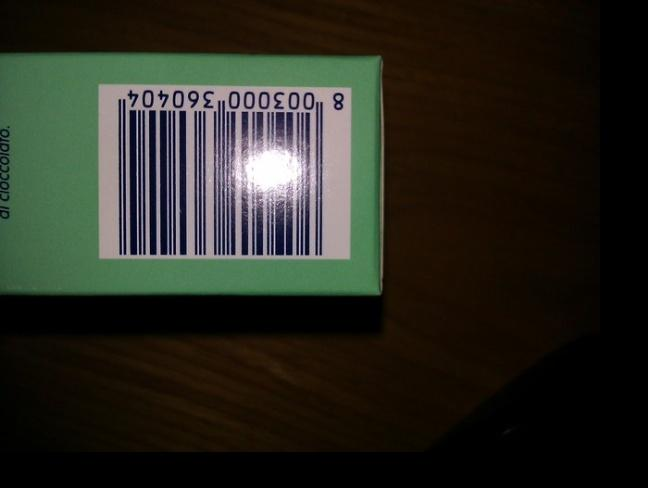Barcode: (98, 83, 352, 258)
